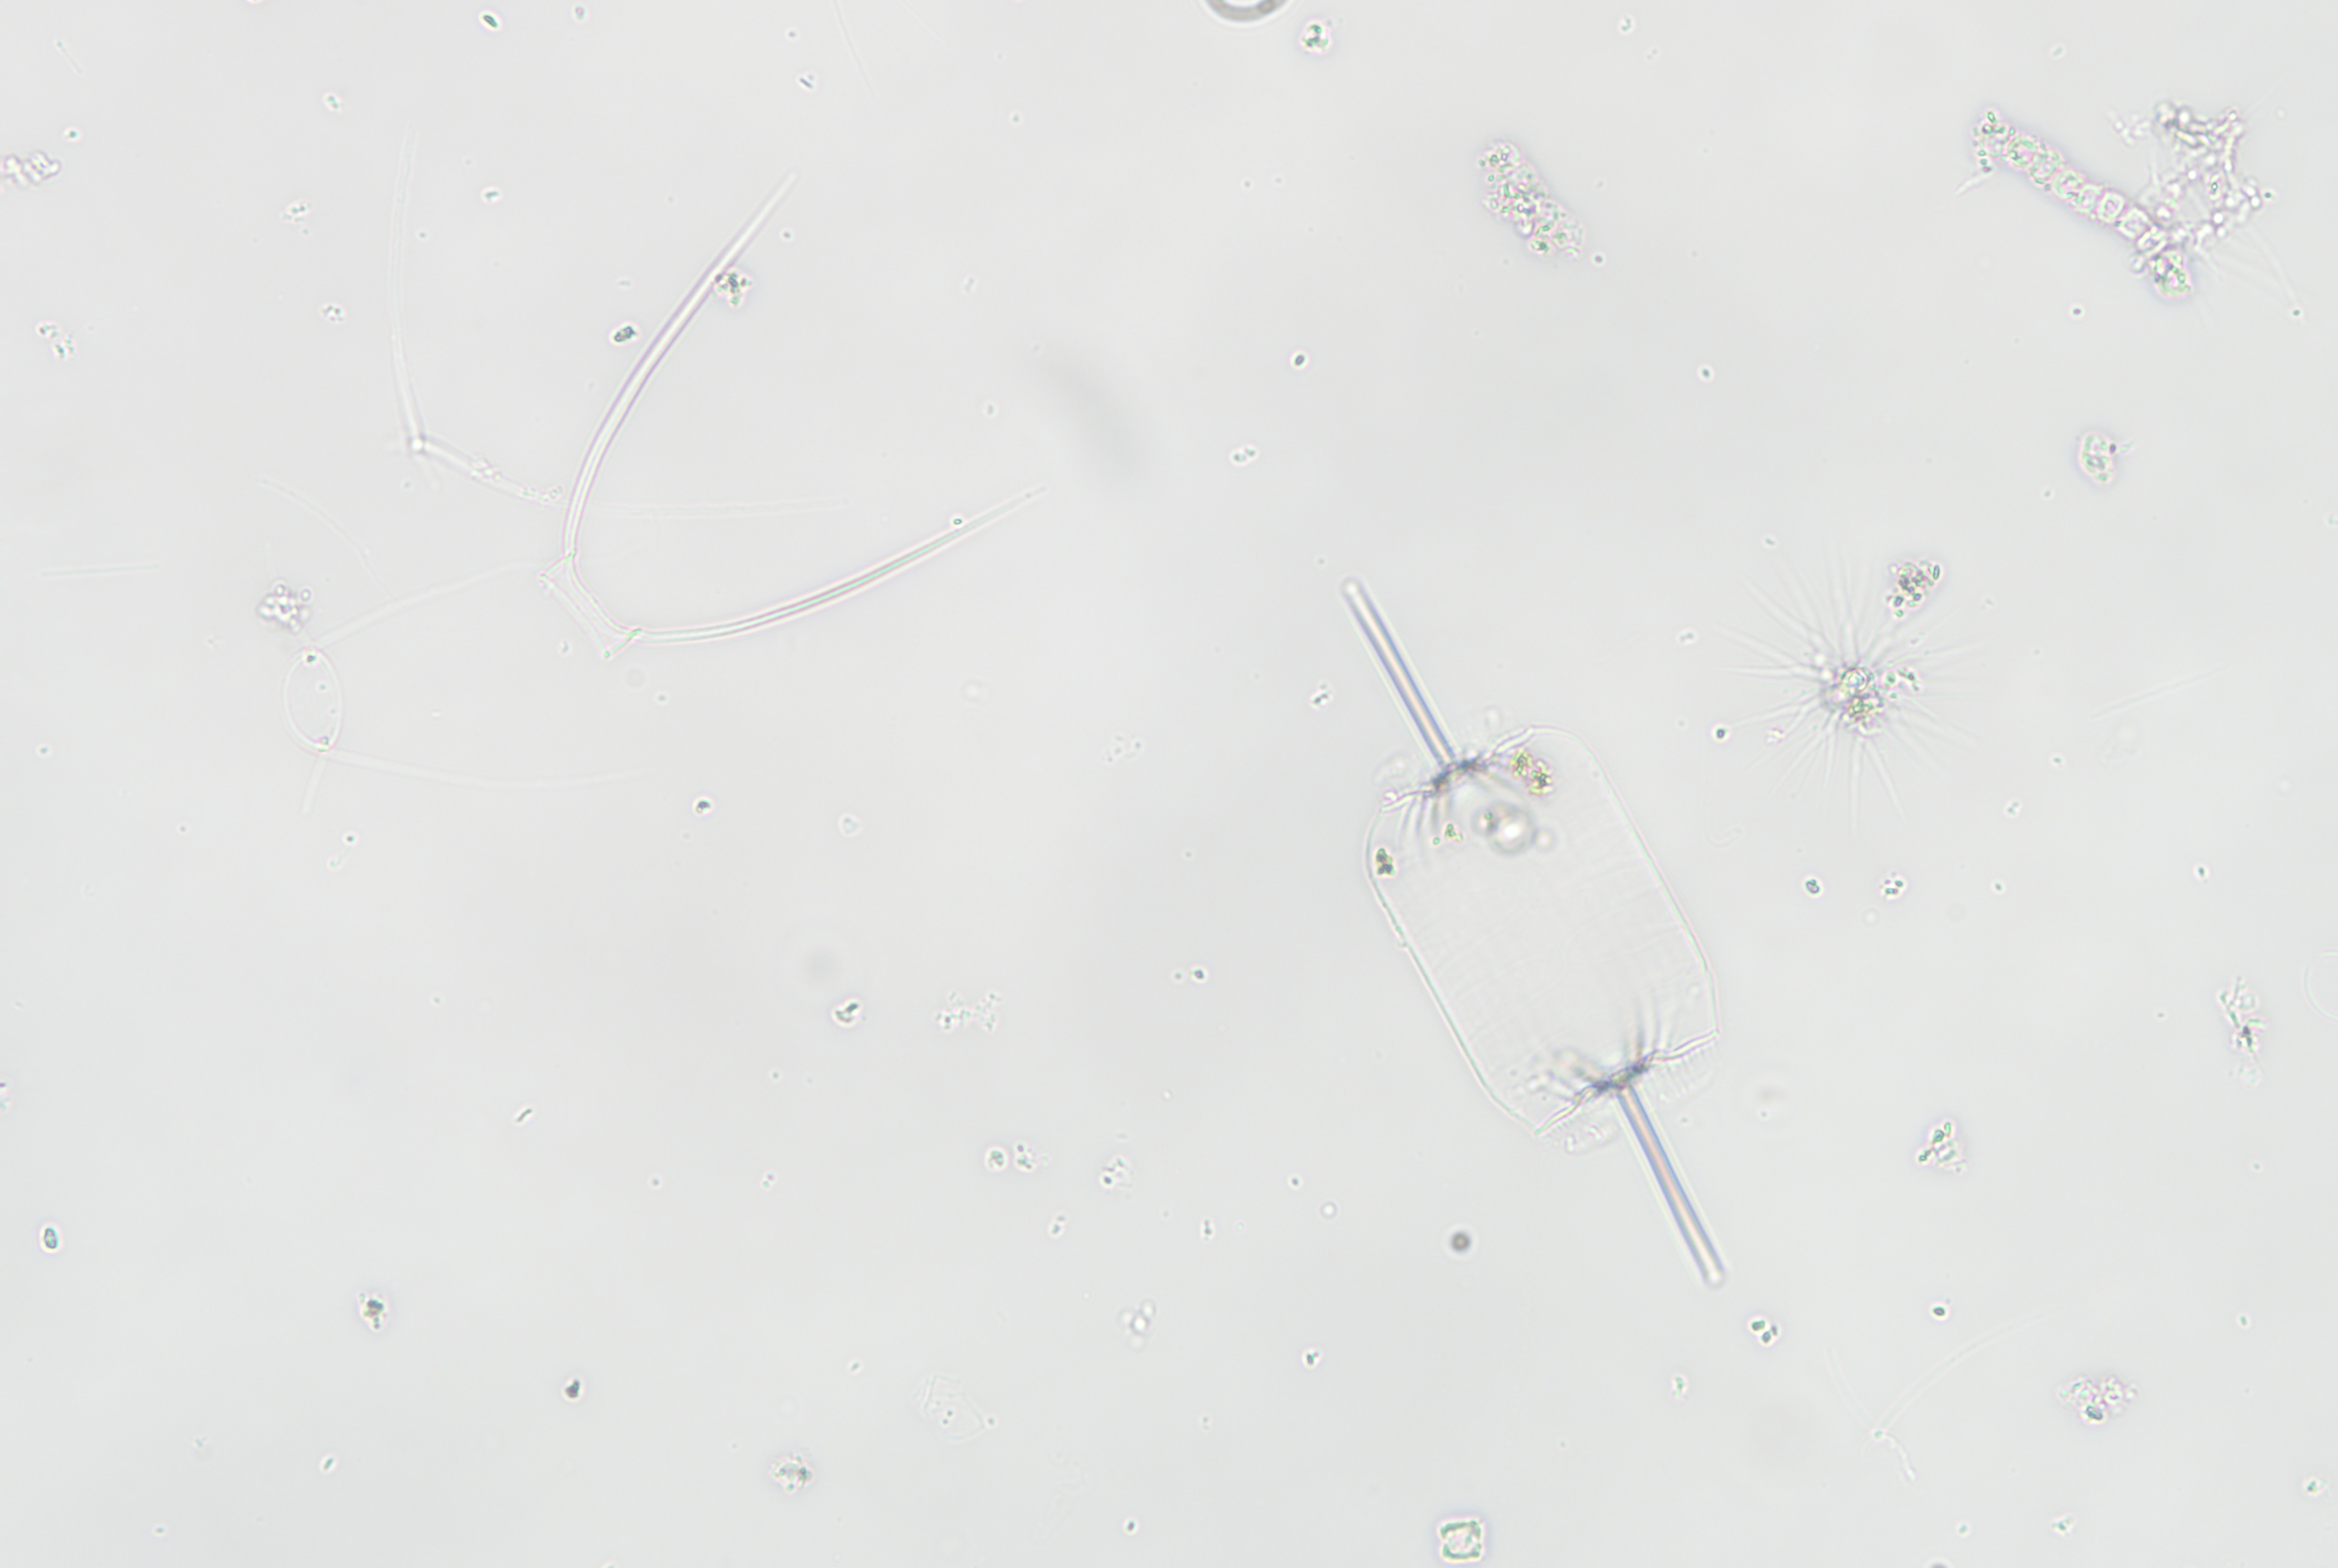ditylum: (1286, 576, 1781, 1370)
